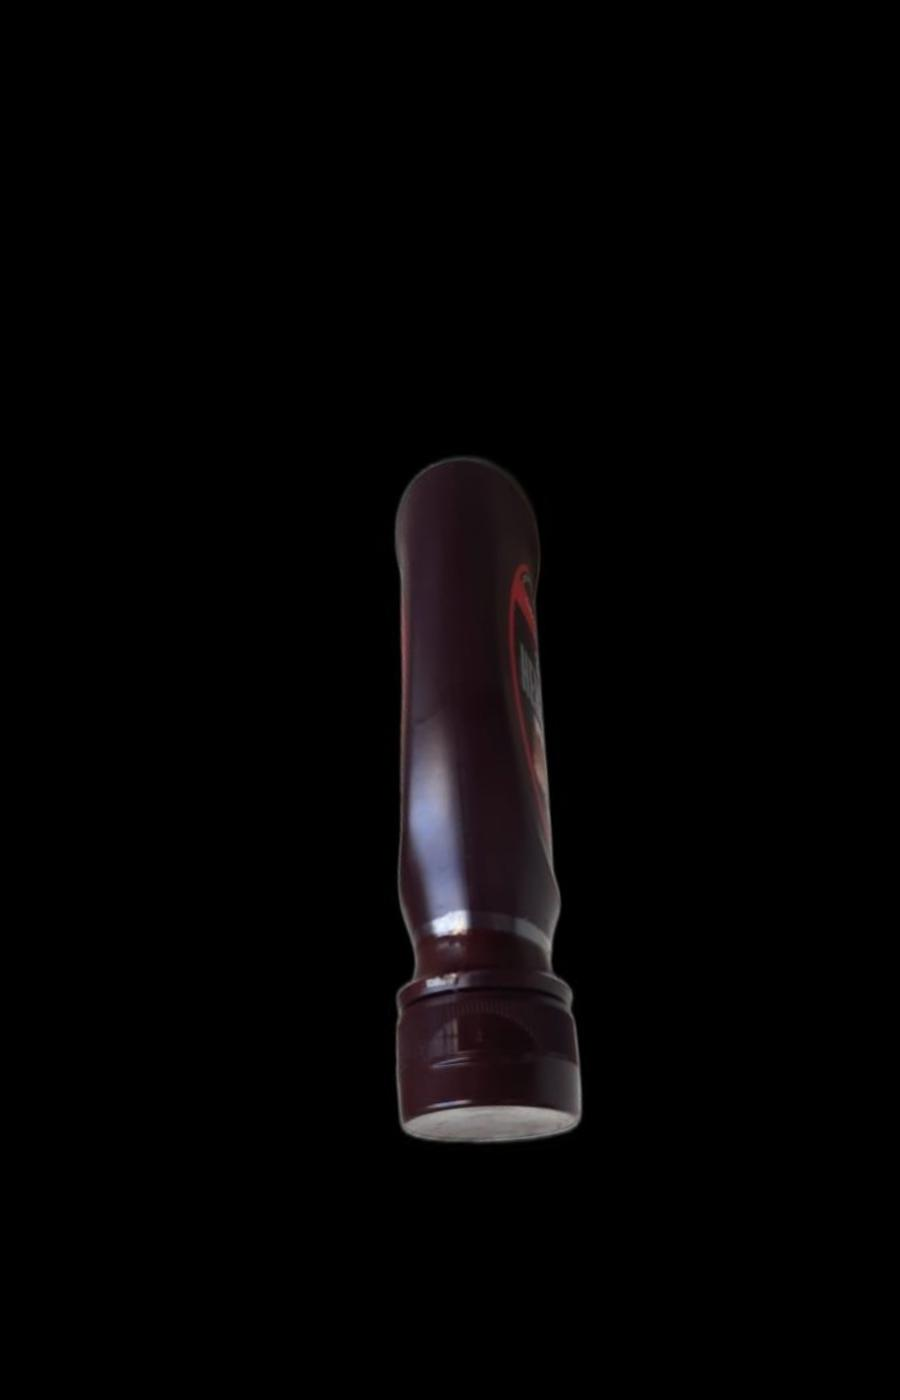HERSHEY-S Chocolate Flavored Syrup 200g: (309, 444, 648, 1155)
